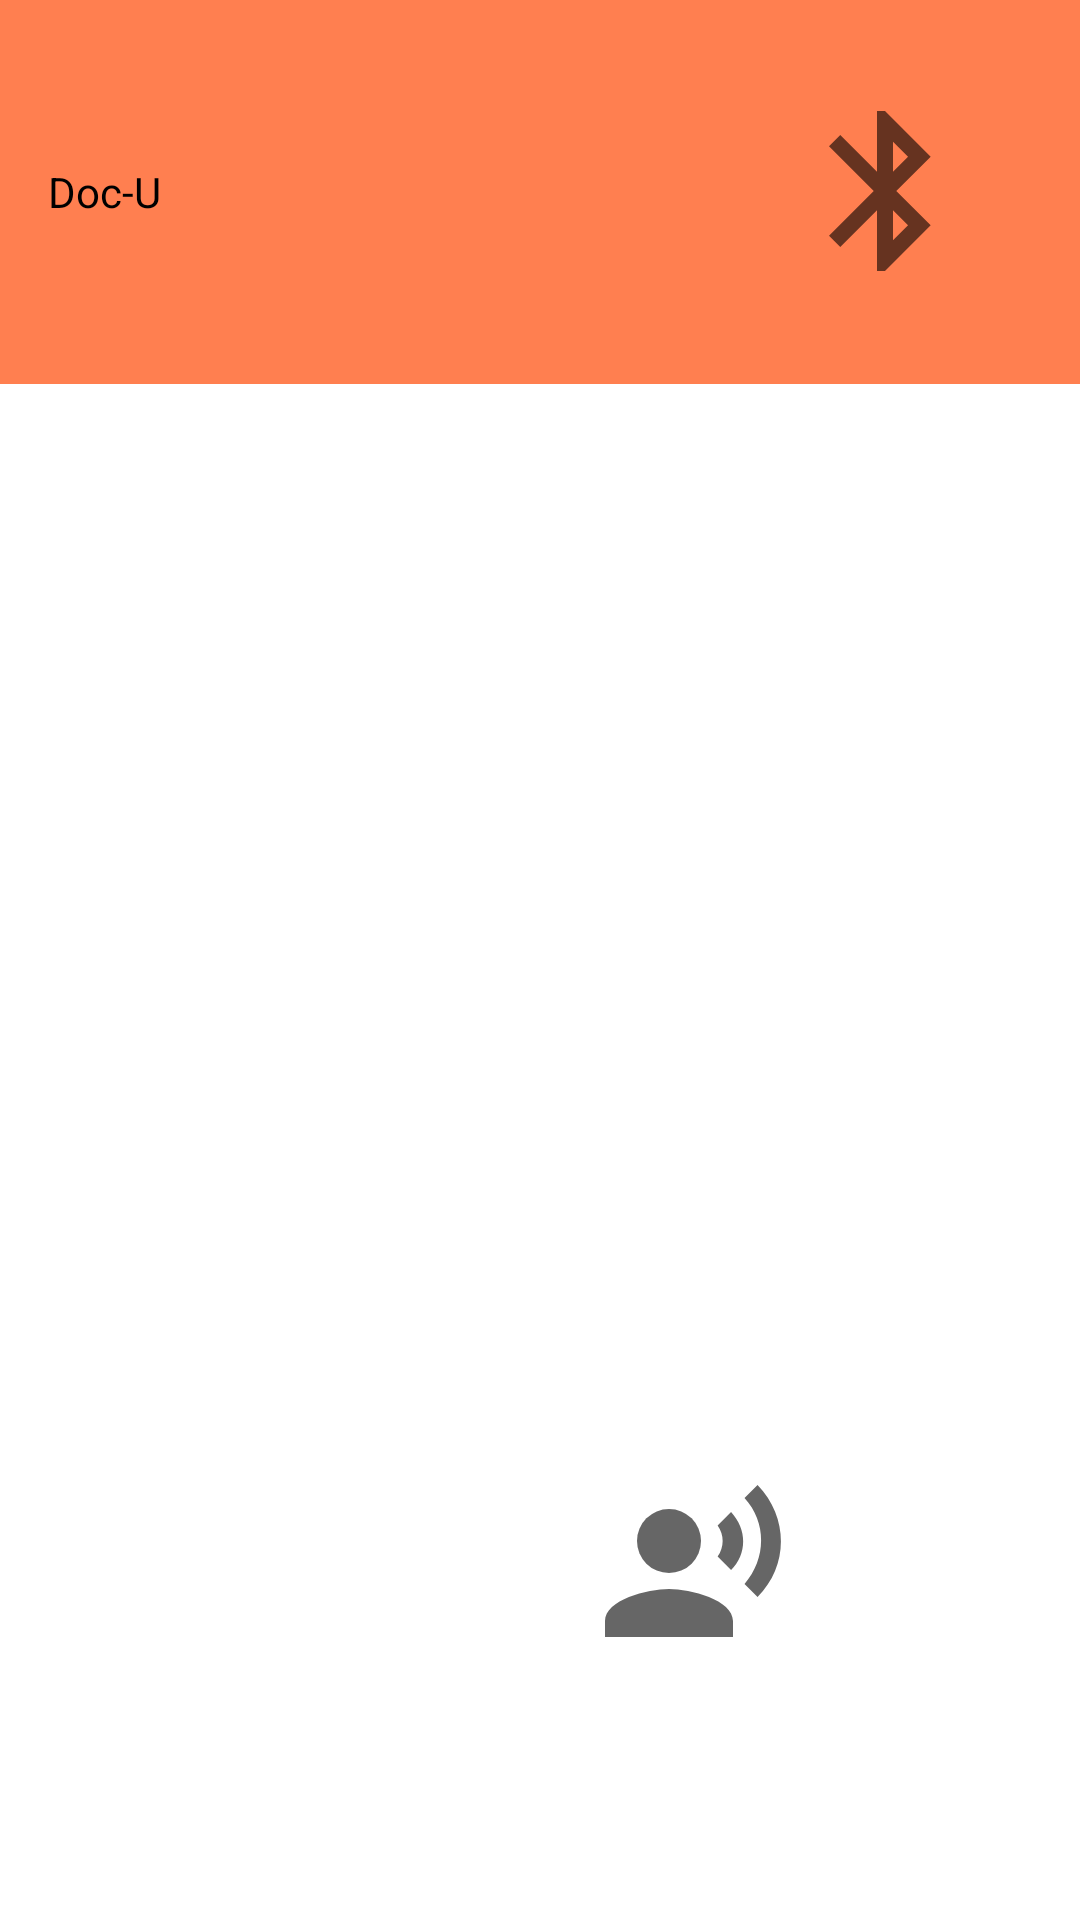

Icons on this 1080*1920 Android screen, each with the point to tap as (x,y):
record: (693,1561)
